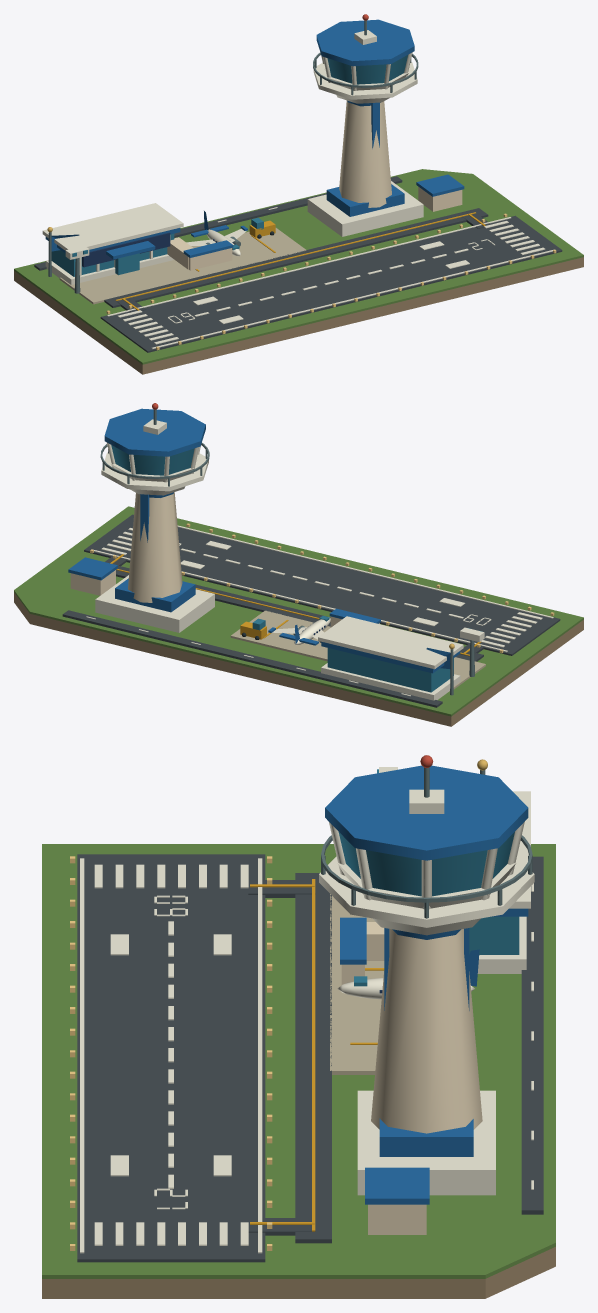
The model's file is airport-lv1.glb.
The picture shows the model from 3 angles, top to bottom: view 1: azimuth 30°, elevation 25°; view 2: azimuth 150°, elevation 25°; view 3: azimuth 270°, elevation 25°; orthographic projection. The views are drawn at different scales.
Visible parts, largest first — view 1: runway_airportAsphalt, foundation_grass, foundation_stoneDark, apron_paving, control_tower_cream, taxiway_airportAsphalt, terminal_roof_white, control_room_roof_airportTeam, control_tower_base_white, runway_edge_lines_white, control_room_glass, runway_threshold_white (+15 smaller); view 2: foundation_grass, runway_airportAsphalt, foundation_stoneDark, control_tower_cream, terminal_roof_white, control_room_roof_airportTeam, access_road_airportAsphalt, control_tower_base_white, terminal_glass, apron_paving, runway_edge_lines_white, taxiway_airportAsphalt (+14 smaller); view 3: runway_airportAsphalt, foundation_grass, control_tower_cream, control_room_roof_airportTeam, taxiway_airportAsphalt, foundation_stoneDark, access_road_airportAsphalt, control_tower_base_white, apron_paving, control_room_glass, tower_balcony_white, runway_edge_lines_white (+19 smaller).
Part boxes in pixels (left/top/right/bottom): runway_airportAsphalt: left=100, top=215, right=562, bottom=352; foundation_grass: left=14, top=169, right=583, bottom=364; foundation_stoneDark: left=14, top=257, right=583, bottom=374; apron_paving: left=59, top=228, right=306, bottom=304; control_tower_cream: left=339, top=100, right=391, bottom=207; taxiway_airportAsphalt: left=104, top=208, right=488, bottom=307; terminal_roof_white: left=42, top=203, right=183, bottom=250; control_room_roof_airportTeam: left=316, top=19, right=414, bottom=66; control_tower_base_white: left=307, top=181, right=423, bottom=236; runway_edge_lines_white: left=107, top=217, right=553, bottom=348; control_room_glass: left=327, top=55, right=407, bottom=84; runway_threshold_white: left=117, top=221, right=545, bottom=344; foundation_grass: left=14, top=506, right=583, bottom=716; runway_airportAsphalt: left=84, top=514, right=560, bottom=655; foundation_stoneDark: left=14, top=592, right=583, bottom=726; control_tower_cream: left=128, top=492, right=182, bottom=602; terminal_roof_white: left=318, top=616, right=463, bottom=669; control_room_roof_airportTeam: left=104, top=408, right=205, bottom=456; access_road_airportAsphalt: left=62, top=610, right=442, bottom=707; control_tower_base_white: left=95, top=575, right=214, bottom=632; terminal_glass: left=327, top=648, right=453, bottom=692; apron_paving: left=230, top=610, right=485, bottom=689; runway_edge_lines_white: left=92, top=525, right=553, bottom=652; taxiway_airportAsphalt: left=116, top=566, right=483, bottom=661; runway_airportAsphalt: left=77, top=854, right=265, bottom=1262; foundation_grass: left=42, top=844, right=555, bottom=1278; control_tower_cream: left=371, top=929, right=482, bottom=1133; control_room_roof_airportTeam: left=325, top=765, right=528, bottom=860; taxiway_airportAsphalt: left=295, top=873, right=331, bottom=1243; foundation_stoneDark: left=42, top=1247, right=555, bottom=1298; access_road_airportAsphalt: left=521, top=856, right=543, bottom=1214; control_tower_base_white: left=357, top=1090, right=495, bottom=1195; apron_paving: left=330, top=894, right=384, bottom=1074; control_room_glass: left=338, top=831, right=514, bottom=896; tower_balcony_white: left=319, top=856, right=534, bottom=927; runway_edge_lines_white: left=80, top=858, right=262, bottom=1253.
Bounding box in the file's own units: 1 × 0.4588 × 0.5043.
